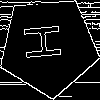H: (23, 21, 71, 62)
